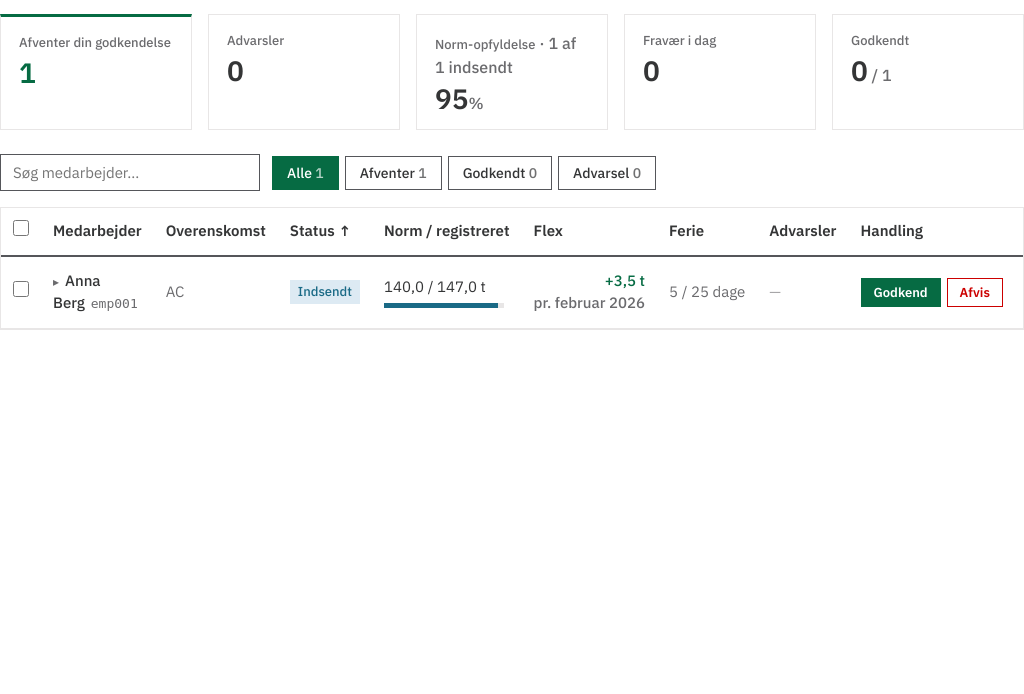
it: TeamRowDetail — accordion expand/collapse › Escape collapses the open row and returns focus to its toggle
The width and height of the screenshot is (1024, 694).
Expected: the text "Anna Berg" is shown, [53,270,101,312]
Click the button named "detaljer for Anna Berg".
click(59, 281)  # box [53,274,65,288]
(page scrolled)
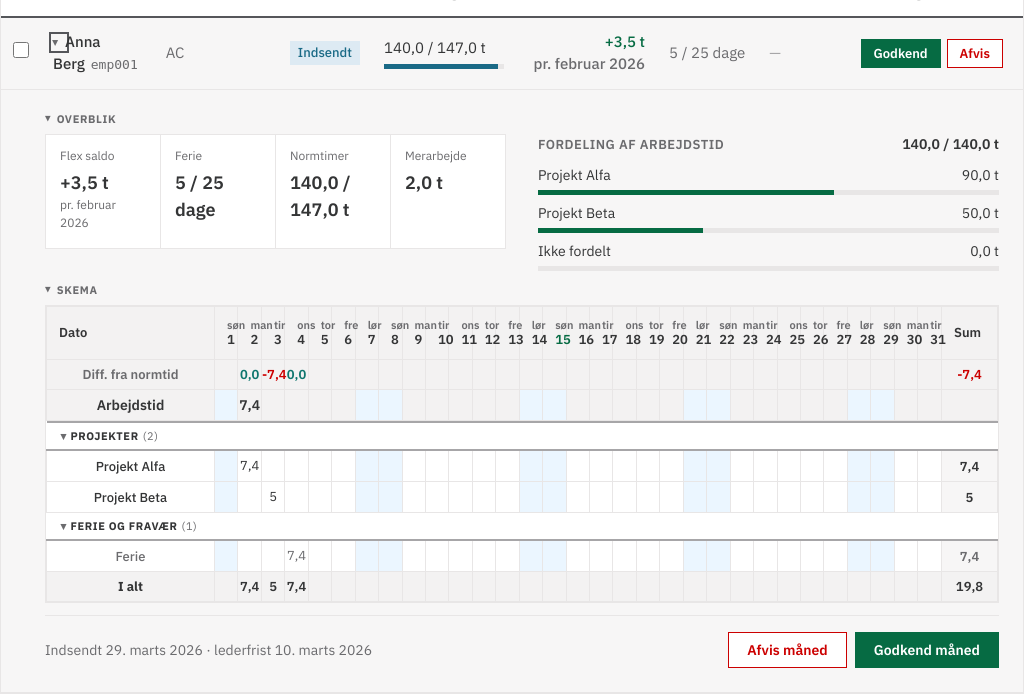
Result: the row with test id "team-detail-row-emp001" is shown
Press Escape
(page scrolled)
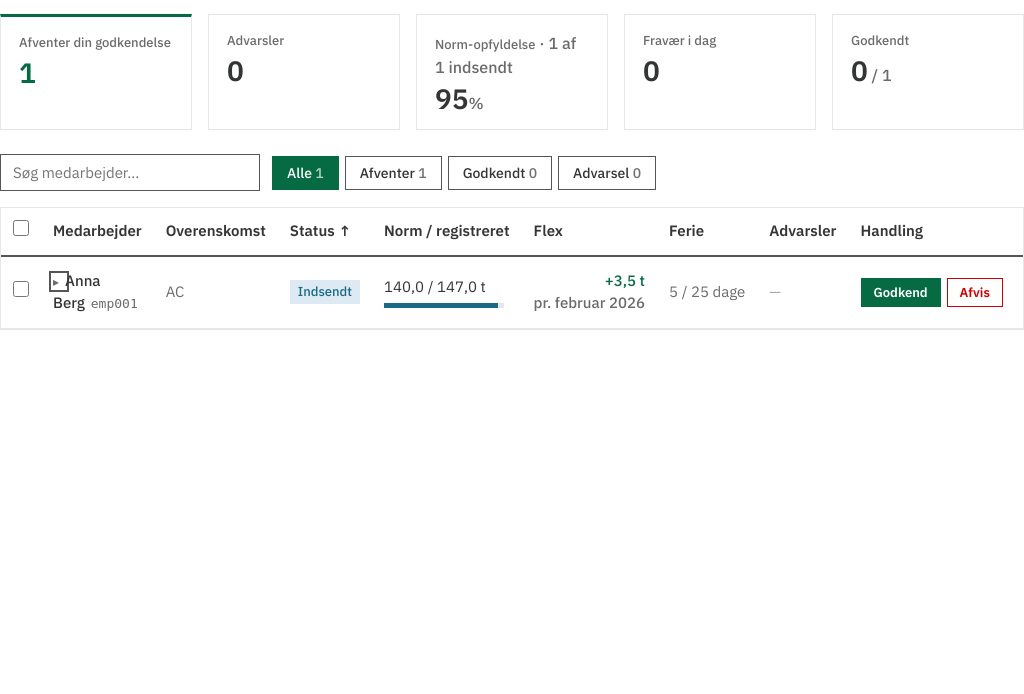
Result: the row with test id "team-detail-row-emp001" is gone
